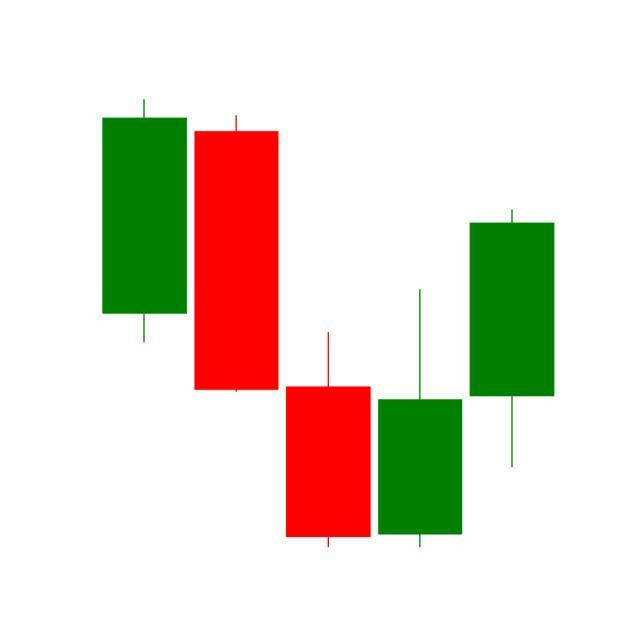Three Inside Up-Down: (280, 206, 555, 549)
